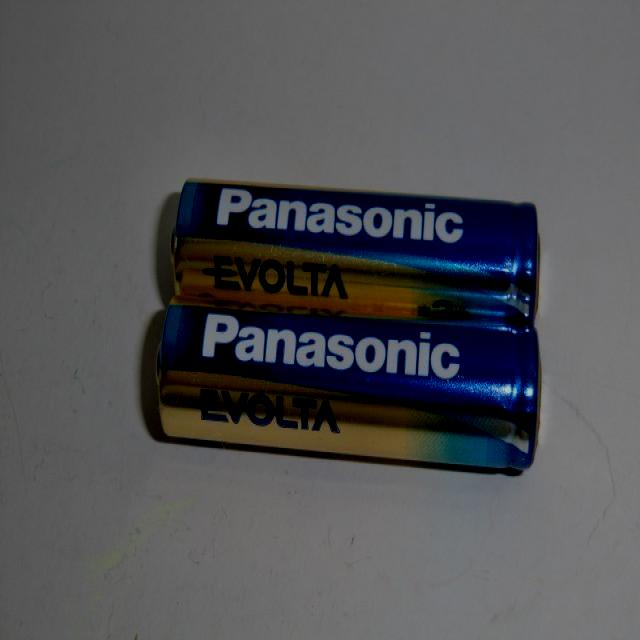AA: (140, 303, 542, 483), (159, 176, 562, 331)
